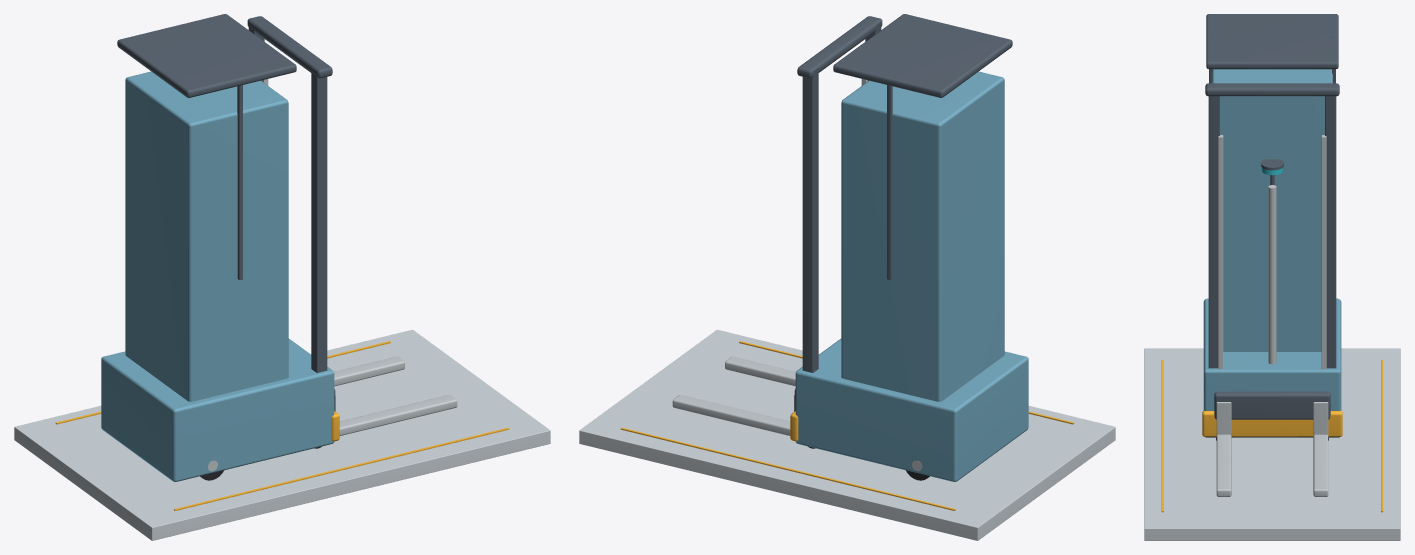
3 renders of one model, left to right at view 1: azimuth 30°, elevation 25°; view 2: azimuth 150°, elevation 25°; view 3: azimuth 270°, elevation 25°, orthographic. The views are drawn at different scales.
Visible parts, largest first — view 1: Operator compartment and guard, Ground plane, Power unit, Overhead guard, Lift mast outer rail, Fork tine / pallet handling, Mast crosshead, Overhead guard upright, Fork tine / pallet handling.001, Concept clearance guide; view 2: Operator compartment and guard, Ground plane, Power unit, Overhead guard, Lift mast outer rail.001, Fork tine / pallet handling.001, Mast crosshead, Overhead guard upright.001, Fork tine / pallet handling, Concept clearance guide.001; view 3: Ground plane, Operator compartment and guard, Overhead guard, Power unit, Lift mast outer rail, Lift mast outer rail.001, Fork carriage, Front safety bumper, Mast crosshead, Hydraulic lift cylinder, Lift mast inner rail, Lift mast inner rail.001 (+6 smaller).
Part boxes in pixels (box(x1,y1,x2,y2)): Operator compartment and guard: box(125, 71, 288, 401); Ground plane: box(14, 329, 550, 540); Power unit: box(101, 338, 334, 481); Overhead guard: box(117, 14, 296, 97); Lift mast outer rail: box(311, 67, 327, 372); Fork tine / pallet handling: box(339, 395, 457, 435); Mast crosshead: box(247, 16, 332, 78); Overhead guard upright: box(237, 75, 242, 279); Fork tine / pallet handling.001: box(334, 356, 404, 386); Concept clearance guide: box(174, 427, 509, 510); Operator compartment and guard: box(841, 71, 1004, 401); Ground plane: box(579, 329, 1115, 540); Power unit: box(795, 338, 1028, 481); Overhead guard: box(833, 14, 1012, 97); Lift mast outer rail.001: box(802, 67, 818, 372); Fork tine / pallet handling.001: box(672, 395, 790, 435); Mast crosshead: box(797, 16, 882, 78); Overhead guard upright.001: box(887, 75, 892, 279); Fork tine / pallet handling: box(725, 356, 795, 386); Concept clearance guide.001: box(620, 427, 955, 510); Ground plane: box(1144, 348, 1400, 540); Operator compartment and guard: box(1212, 69, 1332, 351); Overhead guard: box(1206, 14, 1338, 69); Power unit: box(1203, 298, 1341, 437); Lift mast outer rail: box(1208, 96, 1219, 368); Lift mast outer rail.001: box(1325, 96, 1336, 368); Fork carriage: box(1214, 391, 1330, 419); Front safety bumper: box(1202, 410, 1342, 436); Mast crosshead: box(1205, 83, 1339, 96); Hydraulic lift cylinder: box(1268, 185, 1276, 364); Lift mast inner rail: box(1218, 135, 1223, 369); Lift mast inner rail.001: box(1321, 135, 1326, 369).
Size of the model in its own units: 3.7 by 3.62 by 2.22.
